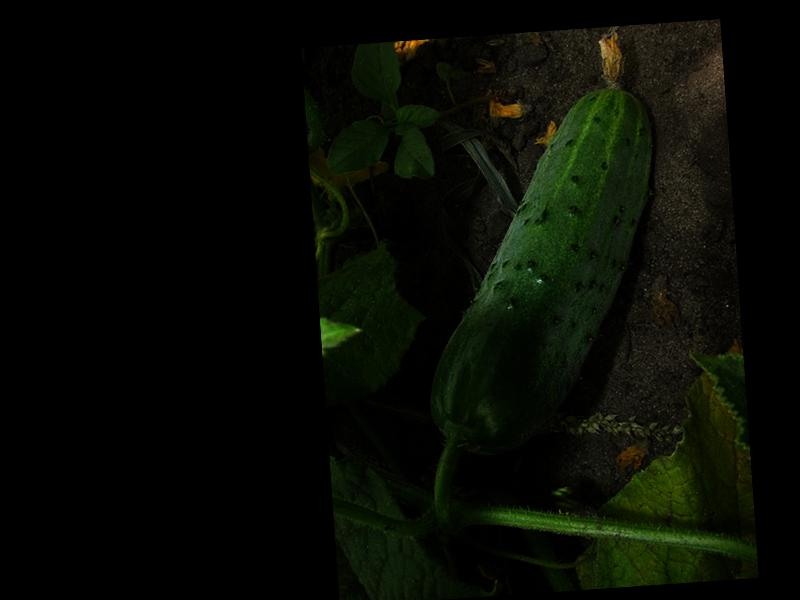Cucumber: (405, 29, 675, 458)
